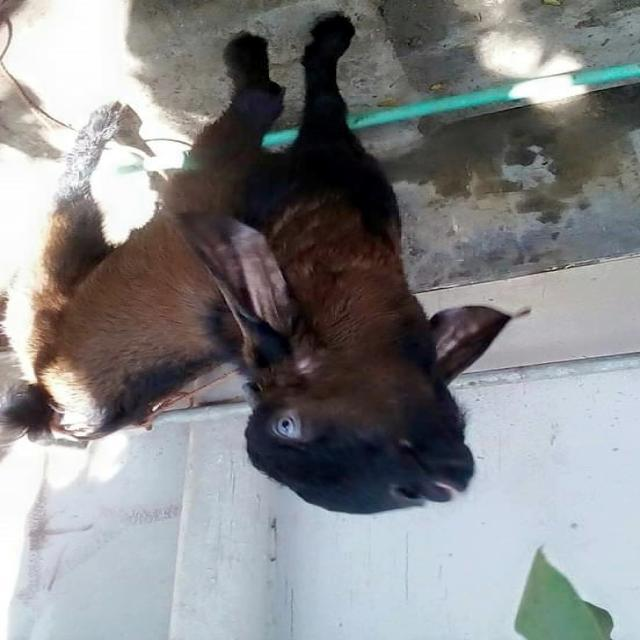Goat: (2, 14, 532, 517)
